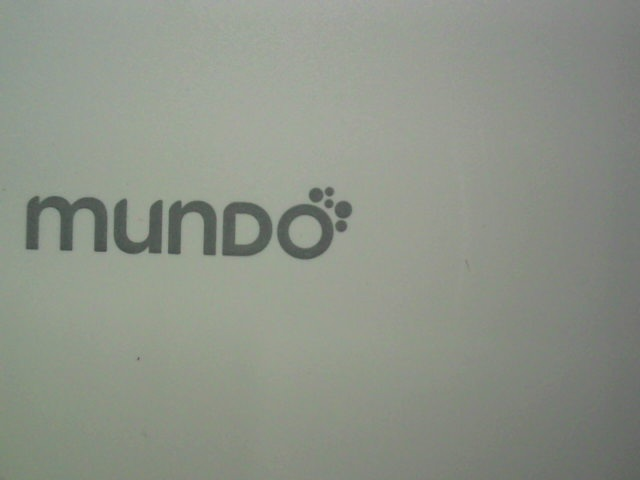BI_MUNDO: (23, 181, 354, 264)
